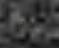four: (33, 20, 39, 28)
two: (18, 20, 24, 28)
zero: (26, 20, 32, 28)
